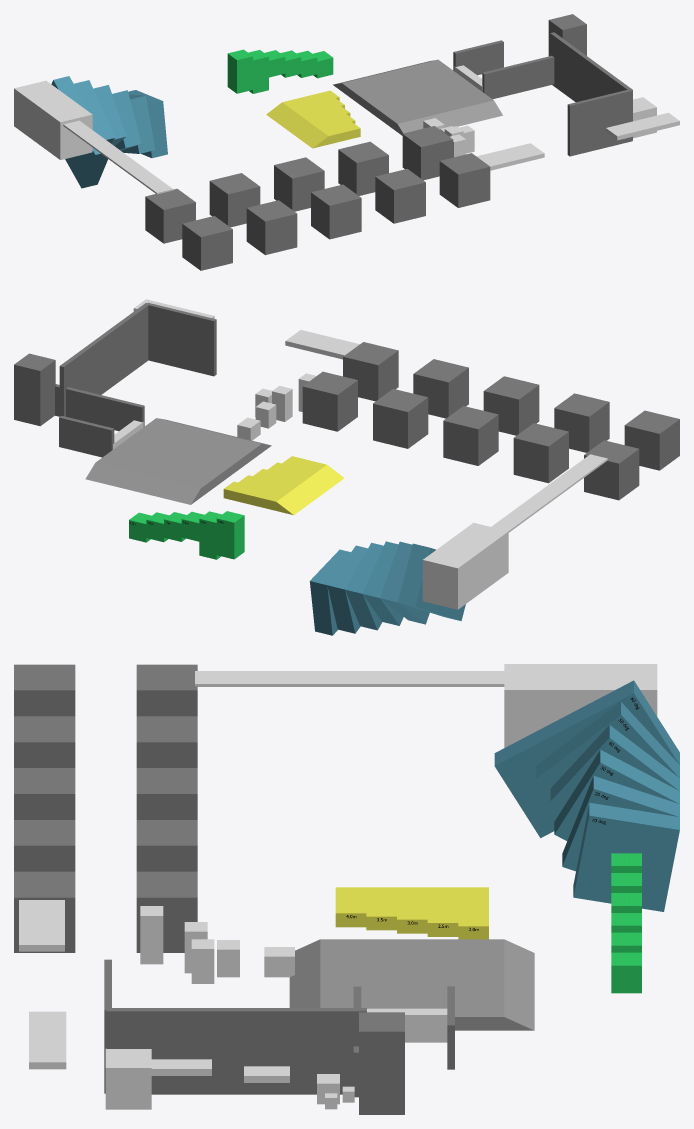
File: Gym area.glb
3 views of the same model, one above another, from view 1: azimuth 30°, elevation 25°; view 2: azimuth 150°, elevation 25°; view 3: azimuth 270°, elevation 25° (orthographic). The views are drawn at different scales.
Parts seen in each view (by area): view 1: Cube.002, Cube.001, Start platform, Cube, Cube.008, Cube.009, Cube.011, Cube.007, 60 deg, Cube.012, Ramp, Cube.017 (+19 smaller); view 2: Cube.001, Cube.002, Start platform, Cube, Cube.009, Cube.008, Cube.013, Cube.011, Cube.007, Cube.012, 60 deg, 20 deg (+12 smaller); view 3: Start platform, Cube.009, Cube.001, Cube.002, 10 deg, Cube, 60 deg, Cube.007, Cube.013, 50 deg, 40 deg, 30 deg (+19 smaller).
Part boxes in pixels (x1=…): Cube.002: x1=182, y1=153, x2=490, y2=270; Cube.001: x1=145, y1=126, x2=453, y2=243; Start platform: x1=333, y1=59, x2=502, y2=135; Cube: x1=14, y1=80, x2=92, y2=159; Cube.008: x1=567, y1=89, x2=632, y2=156; Cube.009: x1=550, y1=32, x2=632, y2=140; Cube.011: x1=482, y1=55, x2=554, y2=99; Cube.007: x1=63, y1=120, x2=173, y2=194; 60 deg: x1=51, y1=76, x2=107, y2=188; Cube.012: x1=453, y1=40, x2=503, y2=75; Ramp: x1=266, y1=102, x2=328, y2=148; Cube.017: x1=606, y1=112, x2=679, y2=140; Cube.001: x1=302, y1=371, x2=639, y2=500; Cube.002: x1=343, y1=342, x2=679, y2=470; Start platform: x1=85, y1=418, x2=271, y2=504; Cube: x1=422, y1=522, x2=508, y2=609; Cube.009: x1=59, y1=303, x2=148, y2=416; Cube.008: x1=146, y1=302, x2=216, y2=376; Cube.013: x1=14, y1=353, x2=55, y2=426; Cube.011: x1=55, y1=384, x2=144, y2=431; Cube.007: x1=491, y1=454, x2=607, y2=532; Cube.012: x1=59, y1=415, x2=114, y2=457; 60 deg: x1=397, y1=543, x2=465, y2=621; 20 deg: x1=327, y1=545, x2=367, y2=633; Start platform: x1=289, y1=939, x2=534, y2=1030; Cube.009: x1=106, y1=1008, x2=366, y2=1094; Cube.001: x1=136, y1=664, x2=197, y2=952; Cube.002: x1=14, y1=664, x2=75, y2=952; 10 deg: x1=573, y1=802, x2=679, y2=911; Cube: x1=504, y1=664, x2=657, y2=747; 60 deg: x1=494, y1=680, x2=679, y2=838; Cube.007: x1=195, y1=671, x2=504, y2=686; Cube.013: x1=359, y1=1012, x2=404, y2=1114; 50 deg: x1=536, y1=702, x2=679, y2=794; 40 deg: x1=550, y1=725, x2=679, y2=809; 30 deg: x1=554, y1=749, x2=679, y2=840.
Size of the model in its own units: 61 by 11.91 by 43.48.
8 materials, 1 textured.
